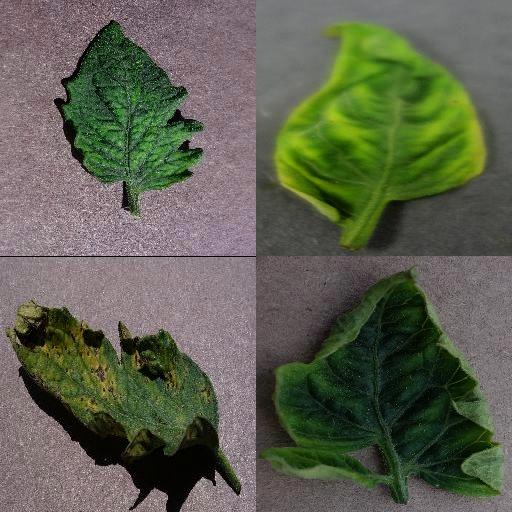Mosaic Virus: (61, 19, 207, 191)
Septoria: (6, 299, 220, 456)
Yellow Leaf Curl Virus: (261, 261, 504, 497), (275, 22, 487, 224)
